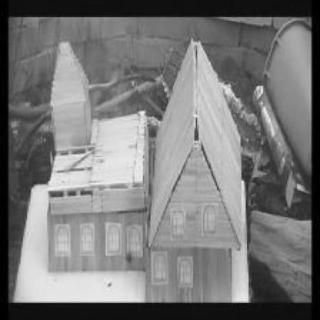Smoke: (81, 51, 119, 112)
